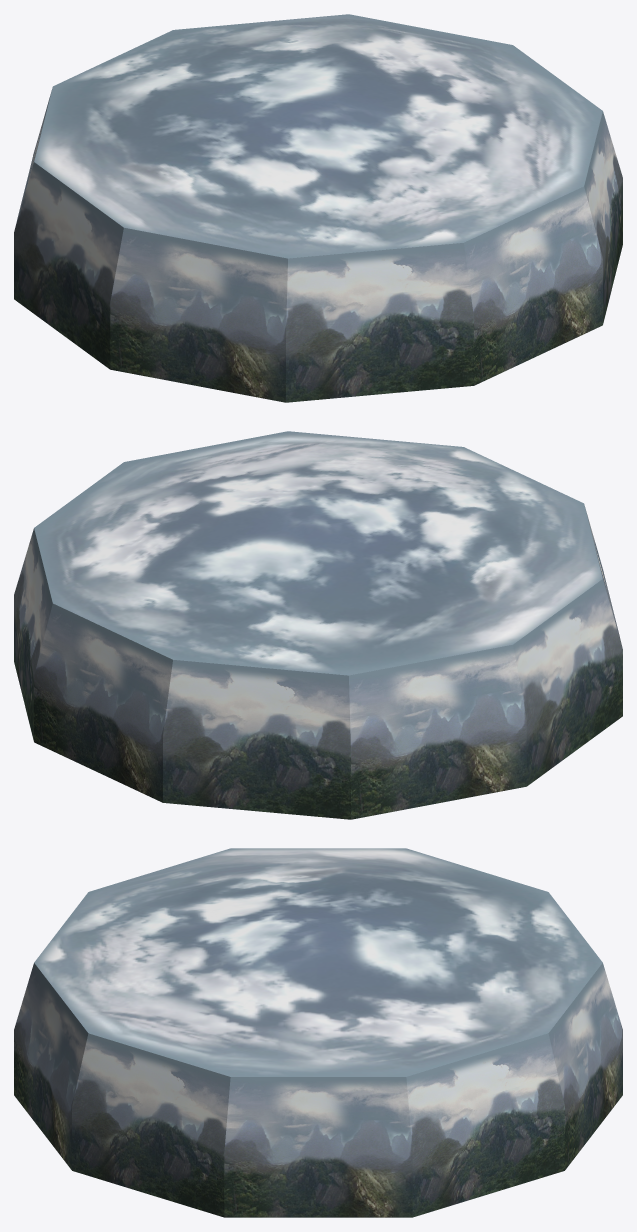
The model's file is sky01.obj.
3 views of the same model, one above another, from view 1: azimuth 30°, elevation 25°; view 2: azimuth 150°, elevation 25°; view 3: azimuth 270°, elevation 25° (orthographic). The views are drawn at different scales.
Visible parts, largest first — view 1: sky01; view 2: sky01; view 3: sky01.
Boxes of the visible parts, left/top/right/bottom form: sky01: left=14, top=14, right=622, bottom=402; sky01: left=14, top=431, right=622, bottom=819; sky01: left=14, top=848, right=622, bottom=1217.
Bounding box in the file's own units: 4021 × 1212 × 4228.
